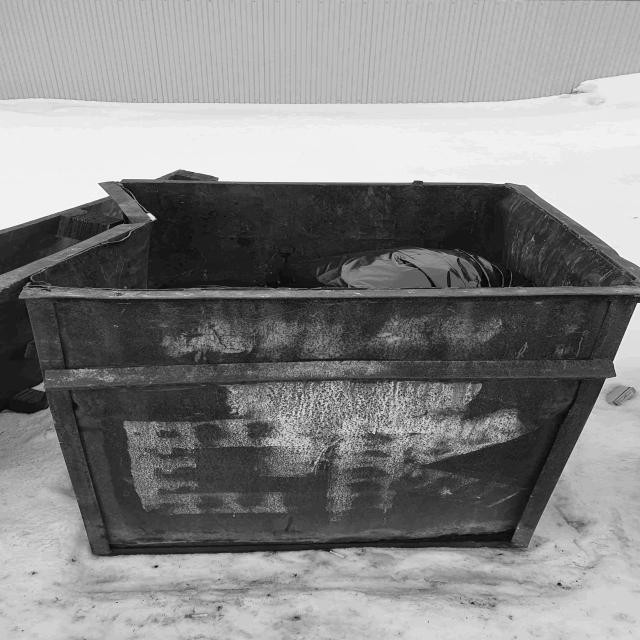Trashcan: (17, 152, 640, 596)
